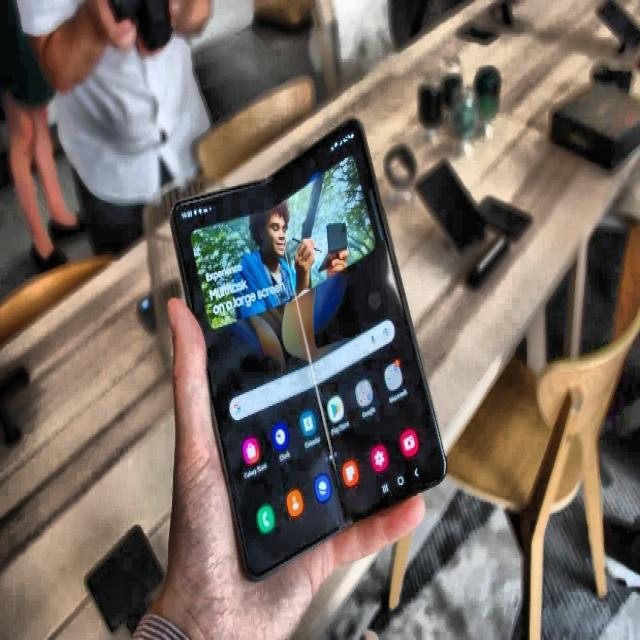Phone: (166, 110, 450, 591)
